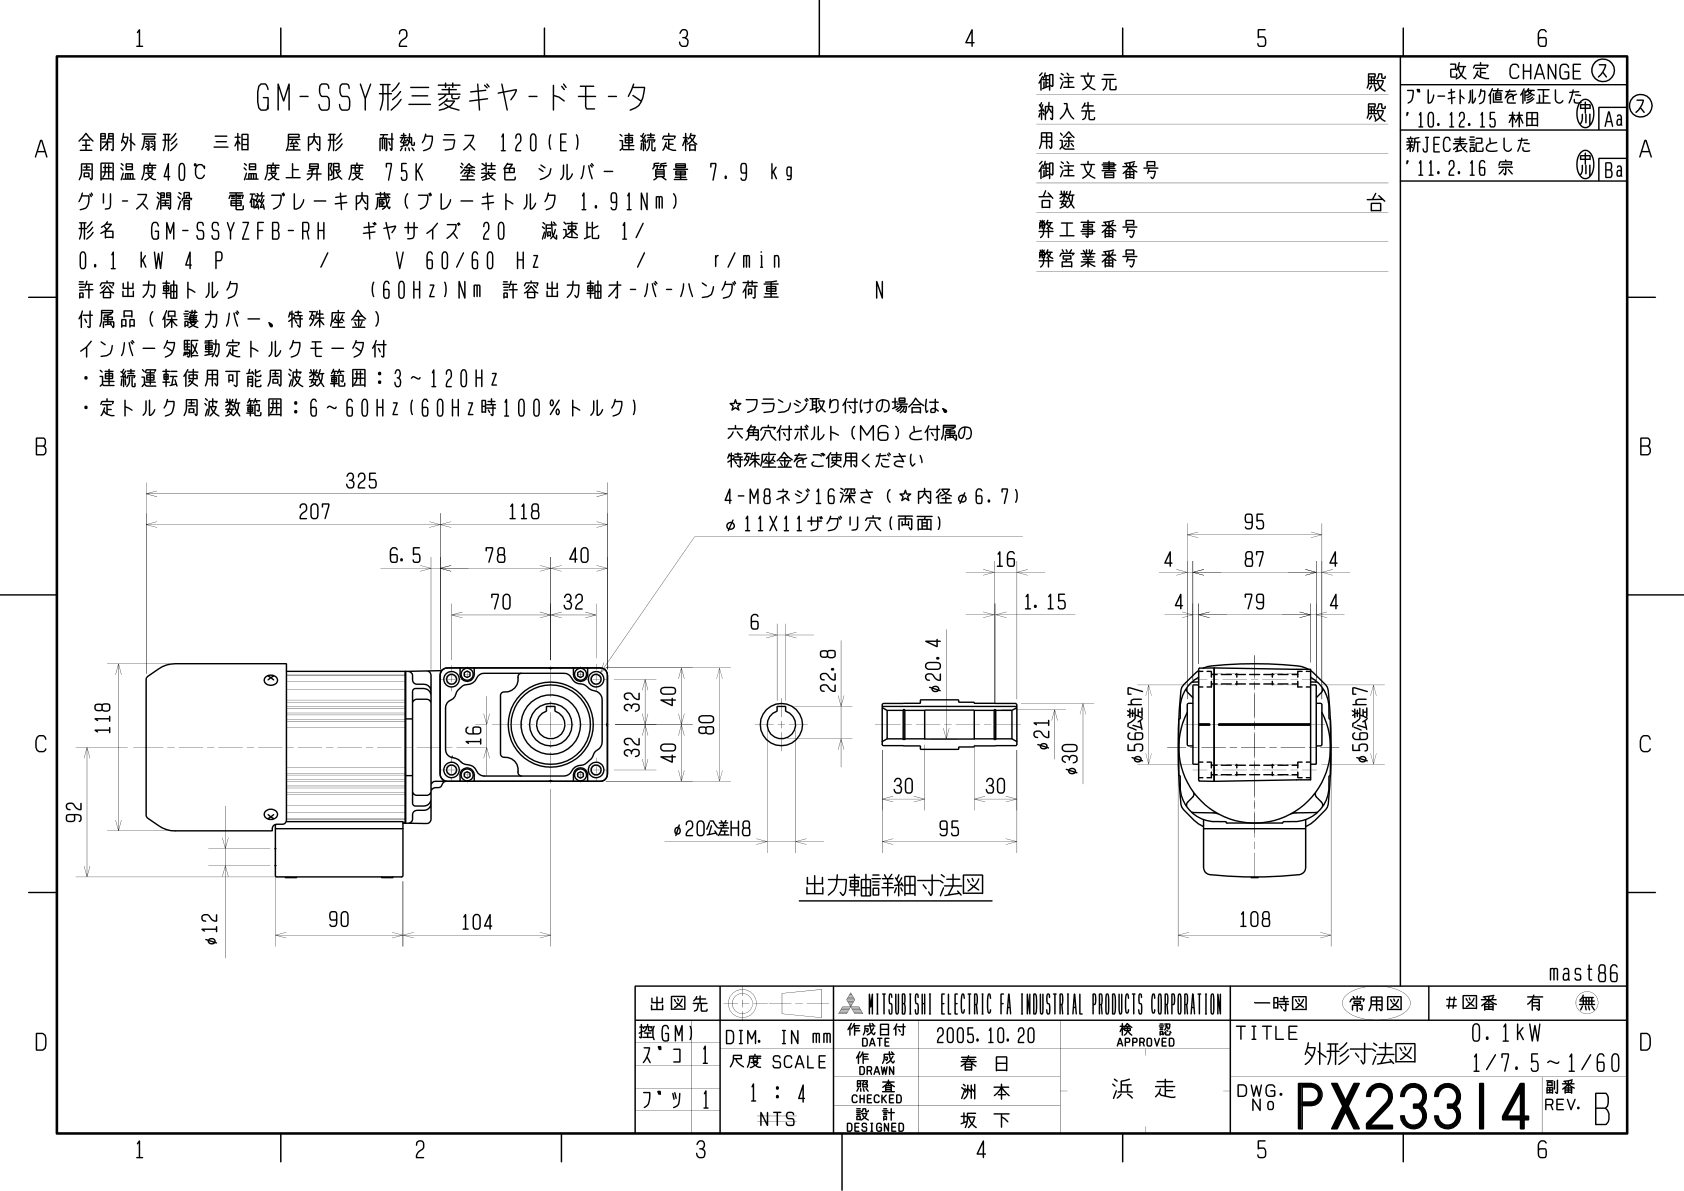GM_SSY_インバータ屋内_三相: (1, 1, 1674, 1178)
